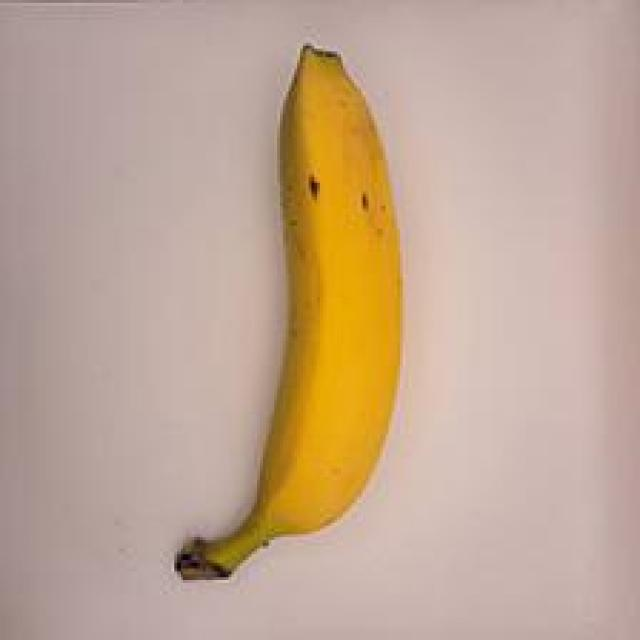Ripe: (164, 30, 430, 580)
